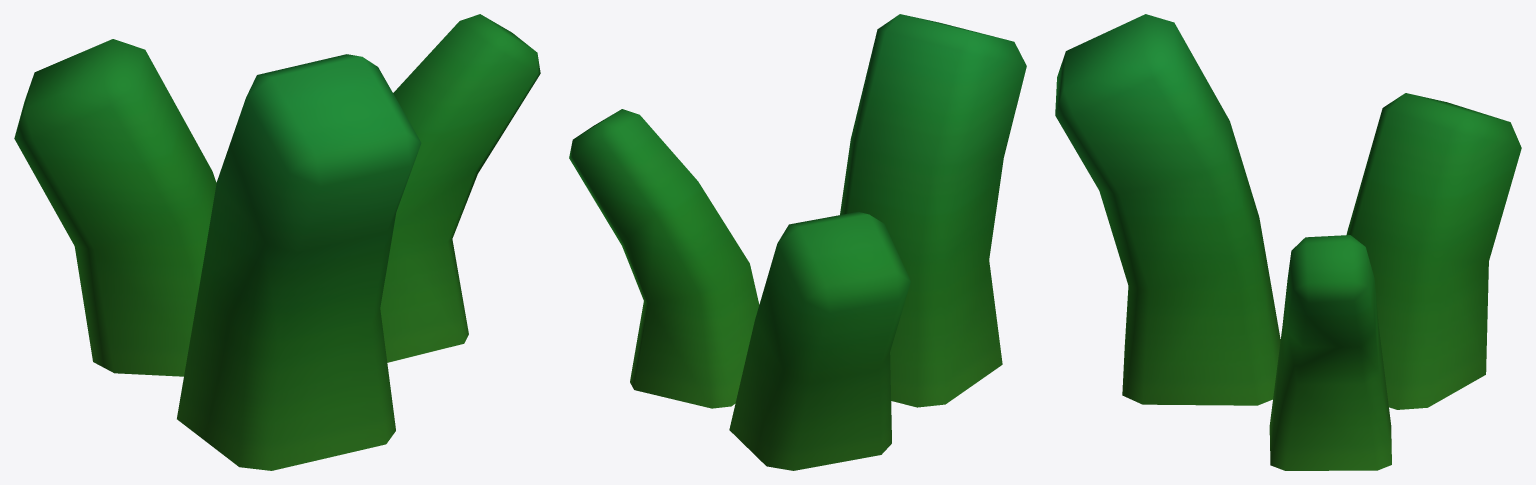
File: Grass_2_3.obj
3 renders of one model, left to right at view 1: azimuth 30°, elevation 25°; view 2: azimuth 150°, elevation 25°; view 3: azimuth 270°, elevation 25°, orthographic. The views are drawn at different scales.
Parts seen in each view (by area): view 1: Grass_2_3; view 2: Grass_2_3; view 3: Grass_2_3.
Part boxes in pixels (box(x1,y1,x2,y2)): Grass_2_3: box(14, 14, 540, 470); Grass_2_3: box(569, 14, 1026, 470); Grass_2_3: box(1055, 14, 1521, 470).
Bounding box in the file's own units: 0.2267 × 0.1858 × 0.2324.
